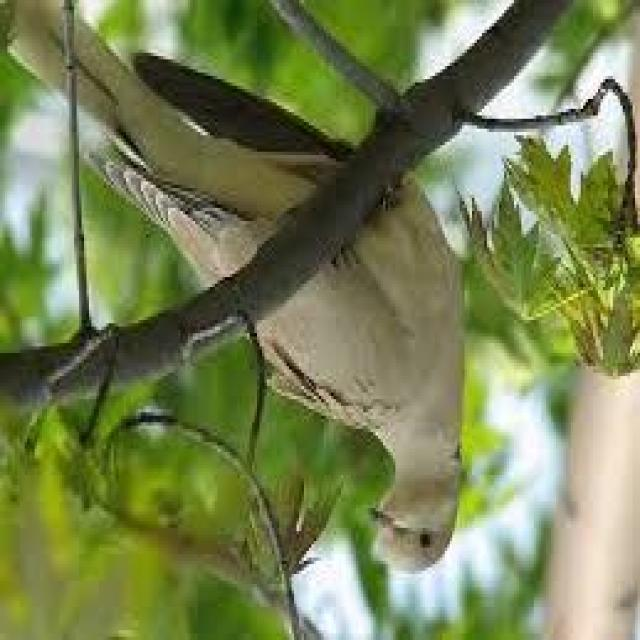pigeon: (7, 0, 489, 574)
